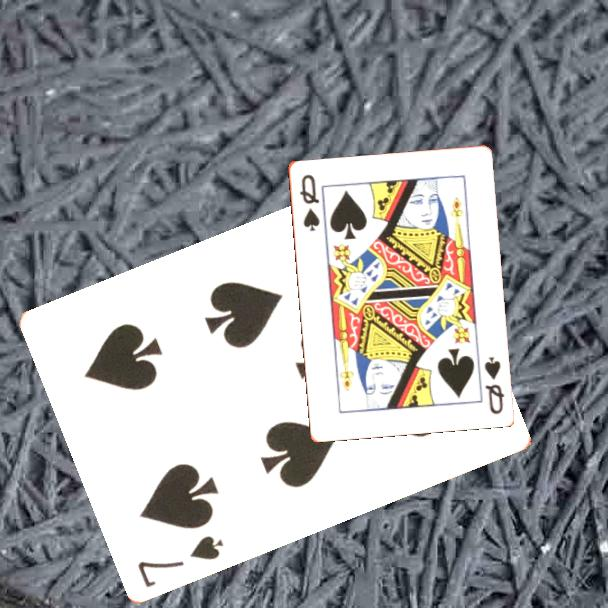s07: (134, 531, 227, 590)
s12: (480, 353, 507, 417), (296, 170, 322, 234)
